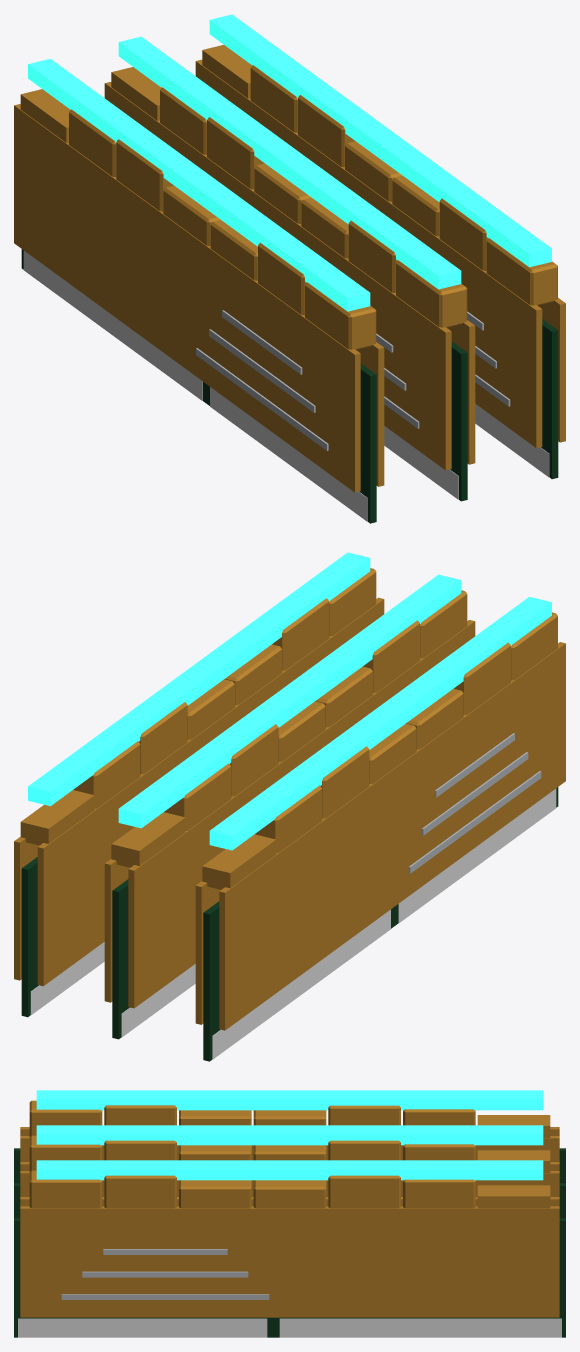
Rendered from hw_ram_ddr3_12gb.glb.
3 renders of one model, top to bottom at view 1: azimuth 30°, elevation 25°; view 2: azimuth 150°, elevation 25°; view 3: azimuth 270°, elevation 25°, orthographic. The views are drawn at different scales.
Parts seen in each view (by area): view 1: Stick_1, Stick_2, Body; view 2: Stick_1, Stick_2, Body; view 3: Body, Stick_2, Stick_1.
Part boxes in pixels (bbox=[...]): Stick_1: bbox=[14, 58, 384, 523]; Stick_2: bbox=[104, 36, 475, 501]; Body: bbox=[195, 14, 565, 479]; Stick_1: bbox=[195, 596, 565, 1061]; Stick_2: bbox=[104, 574, 475, 1039]; Body: bbox=[14, 552, 384, 1017]; Body: bbox=[14, 1160, 565, 1337]; Stick_2: bbox=[14, 1125, 565, 1218]; Stick_1: bbox=[14, 1090, 565, 1183].
Size of the model in its own units: 0.0472 by 0.0456 by 0.133.
